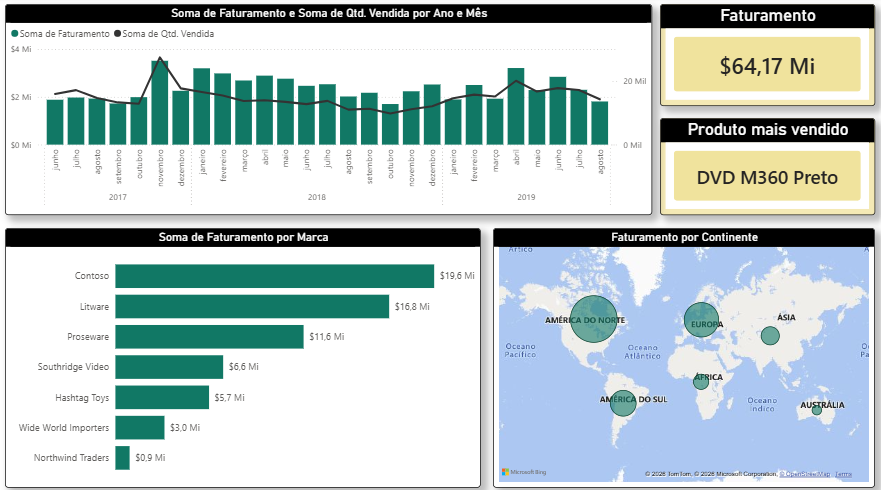

The dashboard page shown, as its layout file describes it:
{"tool":"powerbi","page":{"name":"Página 1","canvas":[1280,720],"ordinal":0},"visuals":[{"type":"cardVisual","title":"Faturamento","fields":{"Data":["Sum(Base Vendas.Faturamento)"]},"box":[954.7,10.1,309.6,146.9],"z":0},{"type":"cardVisual","title":"Produto mais vendido","fields":{"Data":["Min(Base Vendas.Produto)"]},"box":[954.7,174.2,309.6,139.7],"z":1000},{"type":"barChart","fields":{"Y":["Sum(Base Vendas.Faturamento)"],"Category":["Base Vendas.Marca"]},"box":[11.5,332.6,685.4,374.4],"z":2000},{"type":"lineStackedColumnComboChart","fields":{"Y":["Sum(Base Vendas.Faturamento)"],"Category":["Base Vendas.Data da Venda.Variation.Hierarquia de datas.Ano","Base Vendas.Data da Venda.Variation.Hierarquia de datas.Mês"],"Y2":["Sum(Base Vendas.Qtd. Vendida)"]},"box":[11.5,10.1,931.7,303.8],"z":3000},{"type":"map","title":"Faturamento por Continente","fields":{"Category":["Base Vendas.Continente"],"Size":["Sum(Base Vendas.Faturamento)"]},"box":[714.2,332.6,550.1,374.4],"z":3001}]}

Visuals, with their boxes in screenshot pixels (x1, y1, x2, y2), scaled from the page's 1280x720 canvas onto the 881x490 screenshot:
"Faturamento" cardVisual: locate(657, 7, 870, 107)
"Produto mais vendido" cardVisual: locate(657, 119, 870, 214)
barChart - Sum(Base Vendas.Faturamento) x Base Vendas.Marca: locate(8, 226, 480, 481)
lineStackedColumnComboChart - Sum(Base Vendas.Faturamento) x Base Vendas.Data da Venda.Variation.Hierarquia de datas.Ano: locate(8, 7, 649, 214)
"Faturamento por Continente" map: locate(492, 226, 870, 481)
